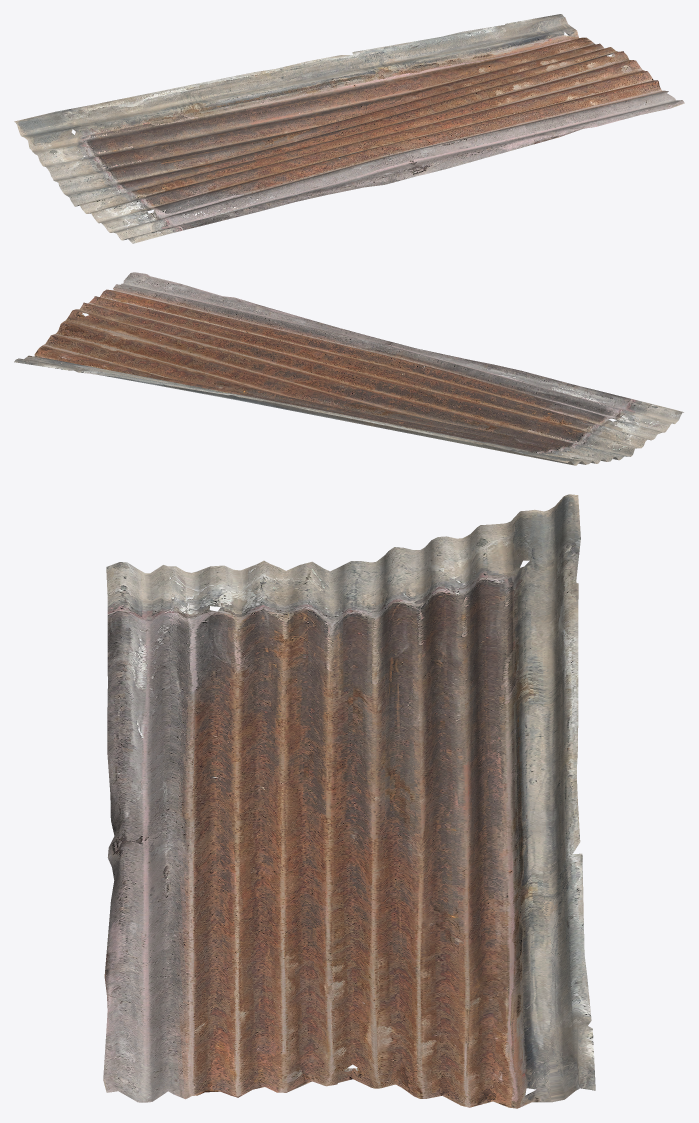
The model's file is SM_Ind_War_Sheet_Metal_Corrugated_02.gltf.
3 renders of one model, top to bottom at view 1: azimuth 30°, elevation 25°; view 2: azimuth 150°, elevation 25°; view 3: azimuth 270°, elevation 25°, orthographic. The views are drawn at different scales.
Visible parts, largest first — view 1: SM_Ind_War_Sheet_Metal_Corrugated_02; view 2: SM_Ind_War_Sheet_Metal_Corrugated_02; view 3: SM_Ind_War_Sheet_Metal_Corrugated_02.
Boxes of the visible parts, box(x1,y1,x2,y2) form: SM_Ind_War_Sheet_Metal_Corrugated_02: box(14, 14, 684, 243); SM_Ind_War_Sheet_Metal_Corrugated_02: box(14, 272, 683, 465); SM_Ind_War_Sheet_Metal_Corrugated_02: box(103, 494, 595, 1108).
Size of the model in its own units: 2.11 by 0.1514 by 0.811.
1 material, 1 textured.
